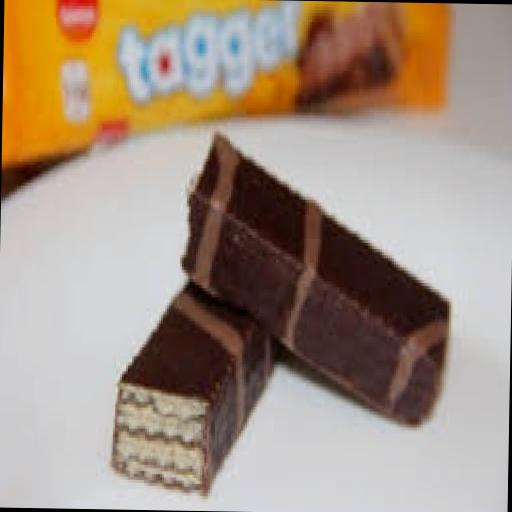tagger: (1, 0, 494, 167)
